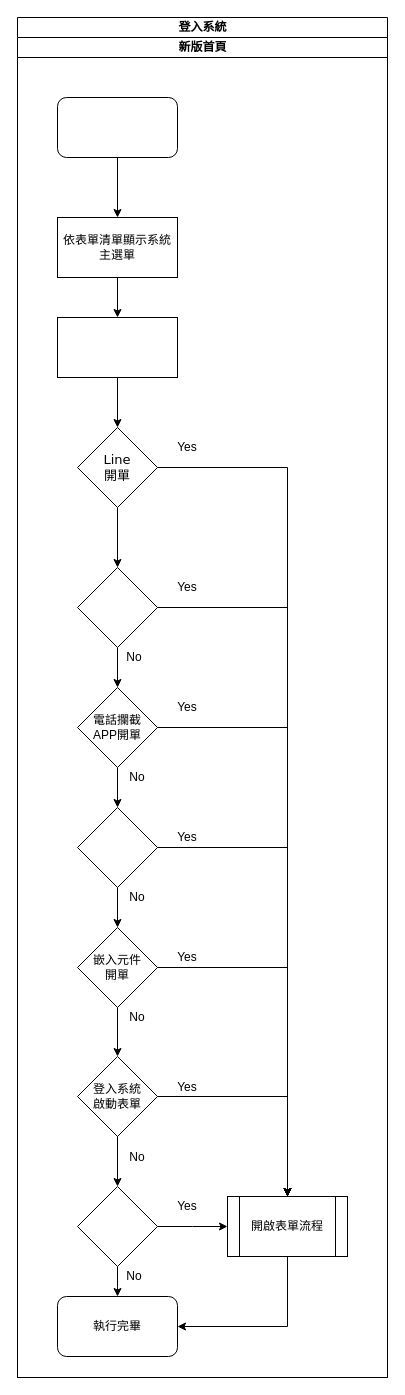
Some shapes in this 405 by 1395 pixel diagram are drawn without their labels. The centre of each missing label's shape, as x and y in pixels:
依使用者權限取得表單清單以及系統相關設定資訊: point (117, 127)
在表單編輯區 顯示系統圖示: point (117, 347)
打樣開單: point (117, 607)
系統根節點 流程表單: point (117, 1226)
超連結開單: point (117, 847)
